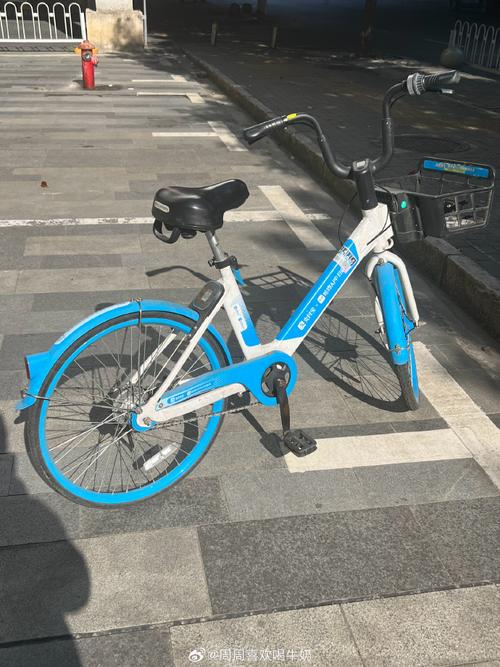单车: (23, 64, 496, 532)
